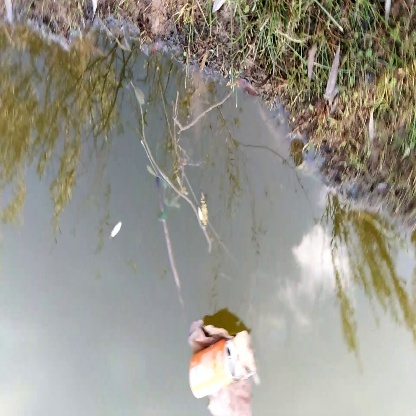bottle: (181, 339, 248, 404)
